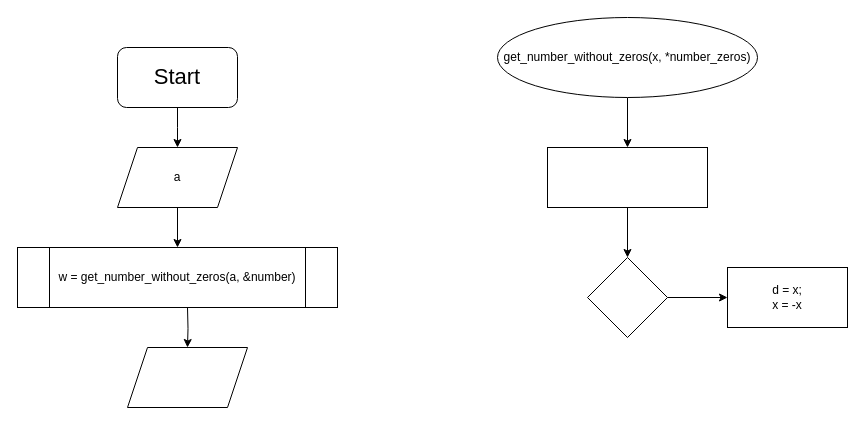
Some shapes in this 865 by 425 pixel diagram are drawn without their labels. The centre of each missing label's shape, as x and y in pixels:
*number_zeros = 0; n = 0; b = 0; c = 0; d = 0: [627,177]
number; a: [187,377]
x < 0: [627,297]
